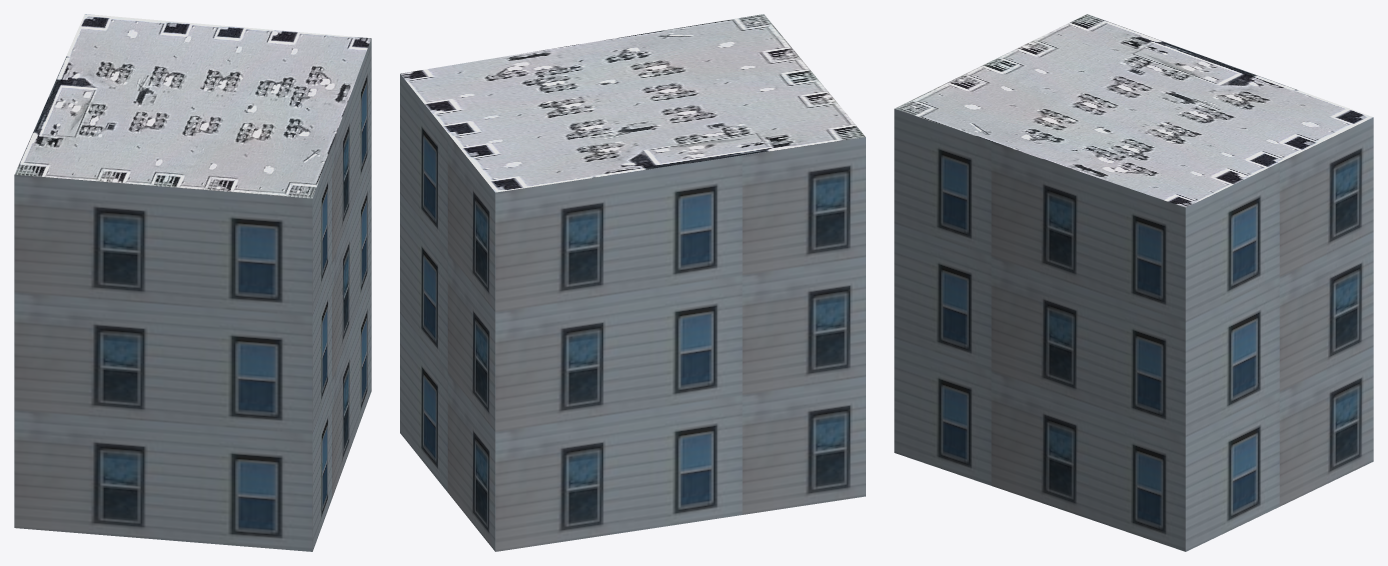
File: ResTex__2338.fbx
3 views of the same model, side by side, from view 1: azimuth 30°, elevation 25°; view 2: azimuth 150°, elevation 25°; view 3: azimuth 270°, elevation 25° (orthographic). The views are drawn at different scales.
Parts seen in each view (by area): view 1: CityEngineMaterial_18_m, CityEngineMaterial_8_m; view 2: CityEngineMaterial_18_m, CityEngineMaterial_8_m; view 3: CityEngineMaterial_18_m, CityEngineMaterial_8_m.
Part boxes in pixels (x1=…): CityEngineMaterial_18_m: x1=14, y1=38, x2=371, y2=551; CityEngineMaterial_8_m: x1=14, y1=14, x2=371, y2=198; CityEngineMaterial_18_m: x1=400, y1=74, x2=865, y2=551; CityEngineMaterial_8_m: x1=400, y1=14, x2=865, y2=192; CityEngineMaterial_18_m: x1=894, y1=109, x2=1373, y2=551; CityEngineMaterial_8_m: x1=894, y1=14, x2=1373, y2=207.
Bounding box in the file's own units: 10.86 × 9 × 11.36.
Materials: 2 (2 with a texture image).
